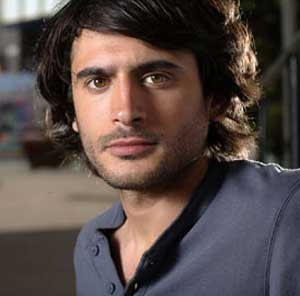bad: (67, 53, 196, 182)
